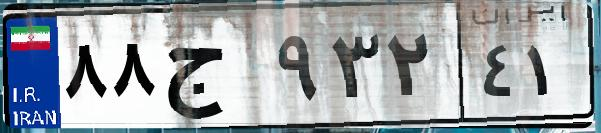1: (525, 38, 570, 115)
2: (385, 28, 445, 110)
3: (330, 28, 385, 110)
4: (475, 38, 525, 113)
8: (57, 26, 110, 100), (110, 28, 158, 98)
9: (270, 28, 330, 110)
ج: (158, 20, 270, 120)
